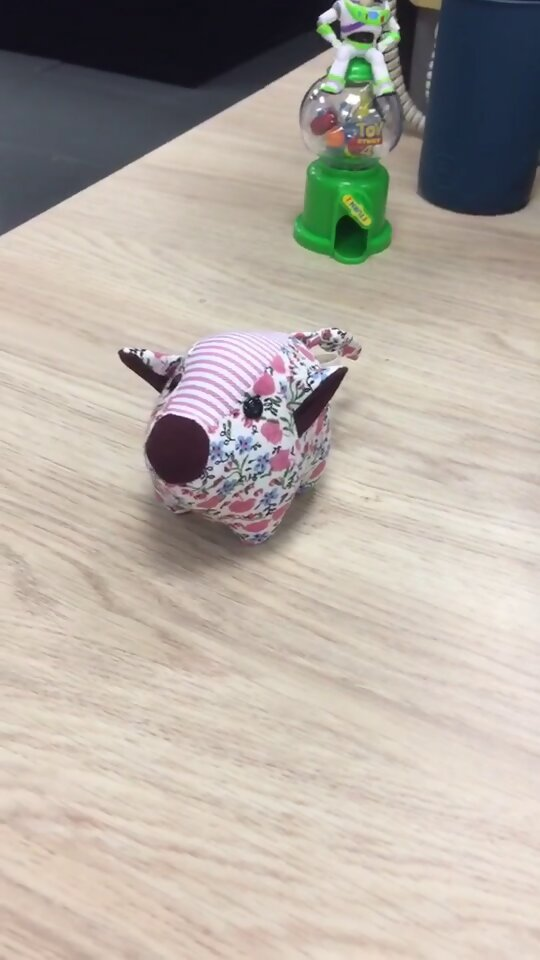pig: (113, 320, 367, 547)
